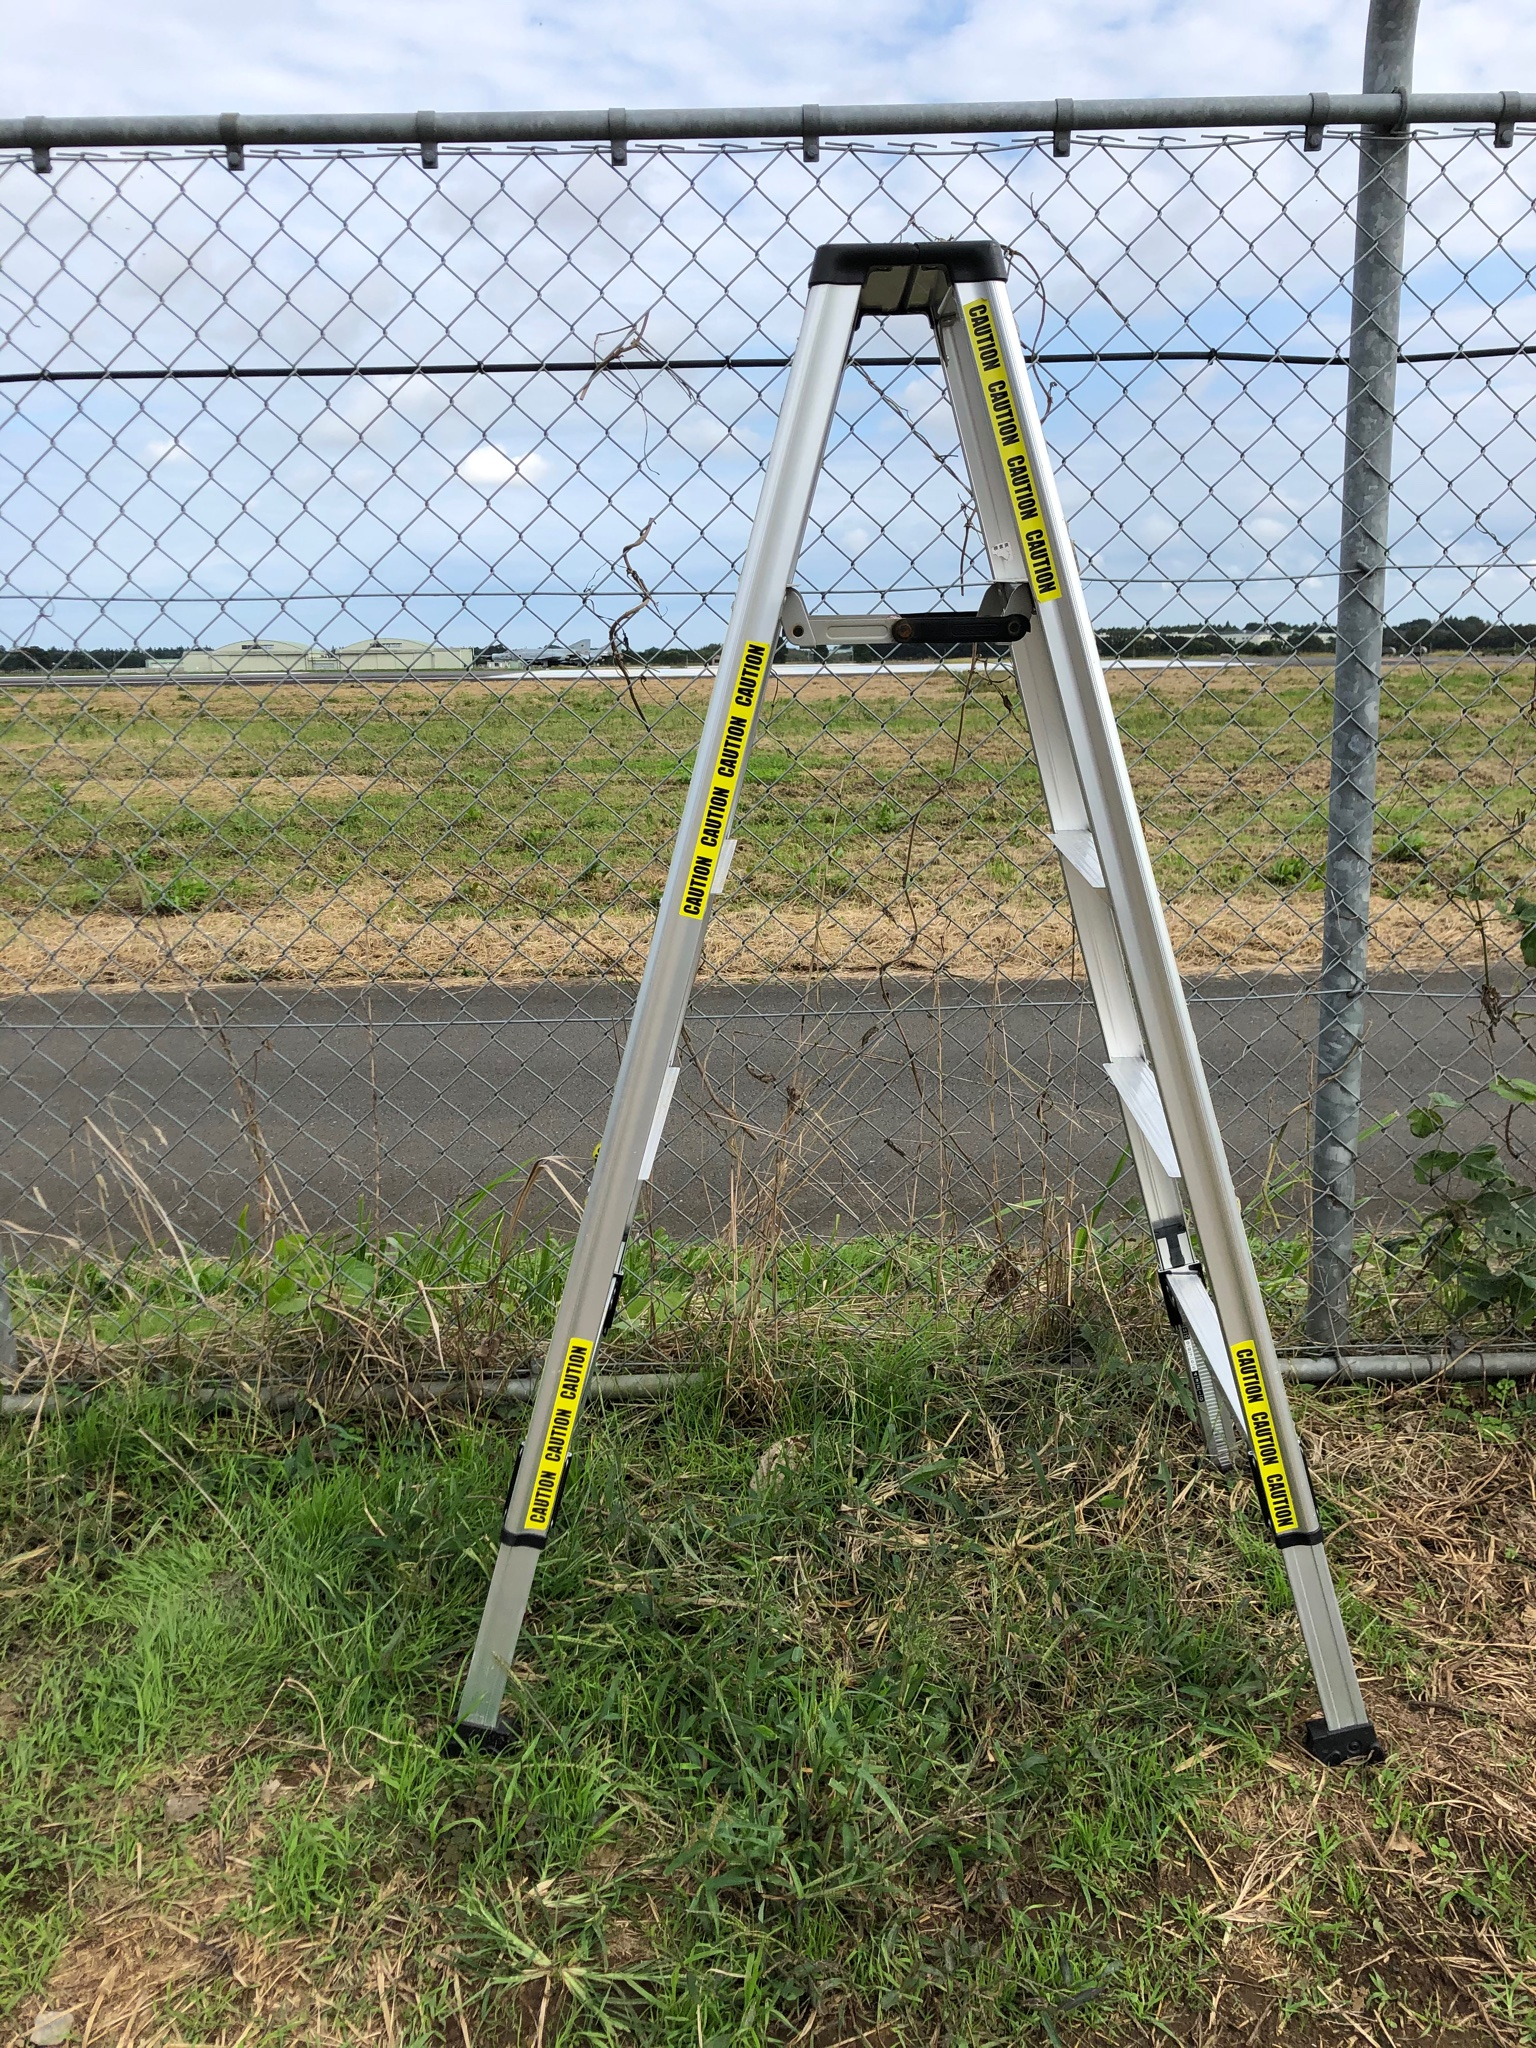F4: (479, 639, 592, 671), (560, 640, 623, 668)
